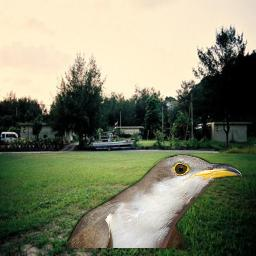Cuckoo: (67, 154, 242, 248)
